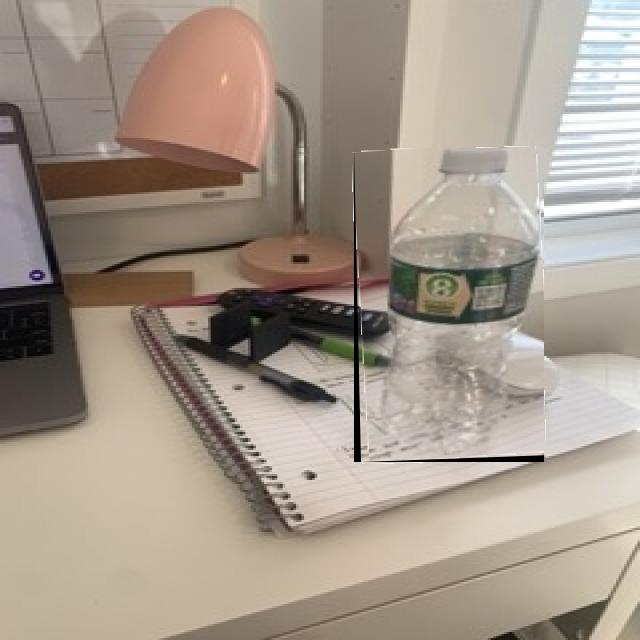water_bottle: (354, 148, 544, 462)
